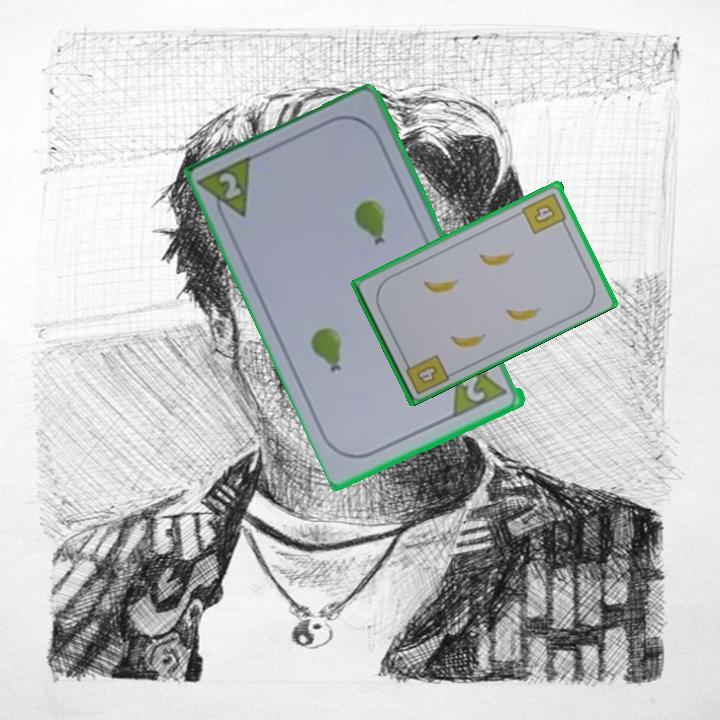2p: (458, 371, 489, 405), (215, 169, 246, 203)
4b: (519, 189, 570, 237), (412, 361, 441, 386)
